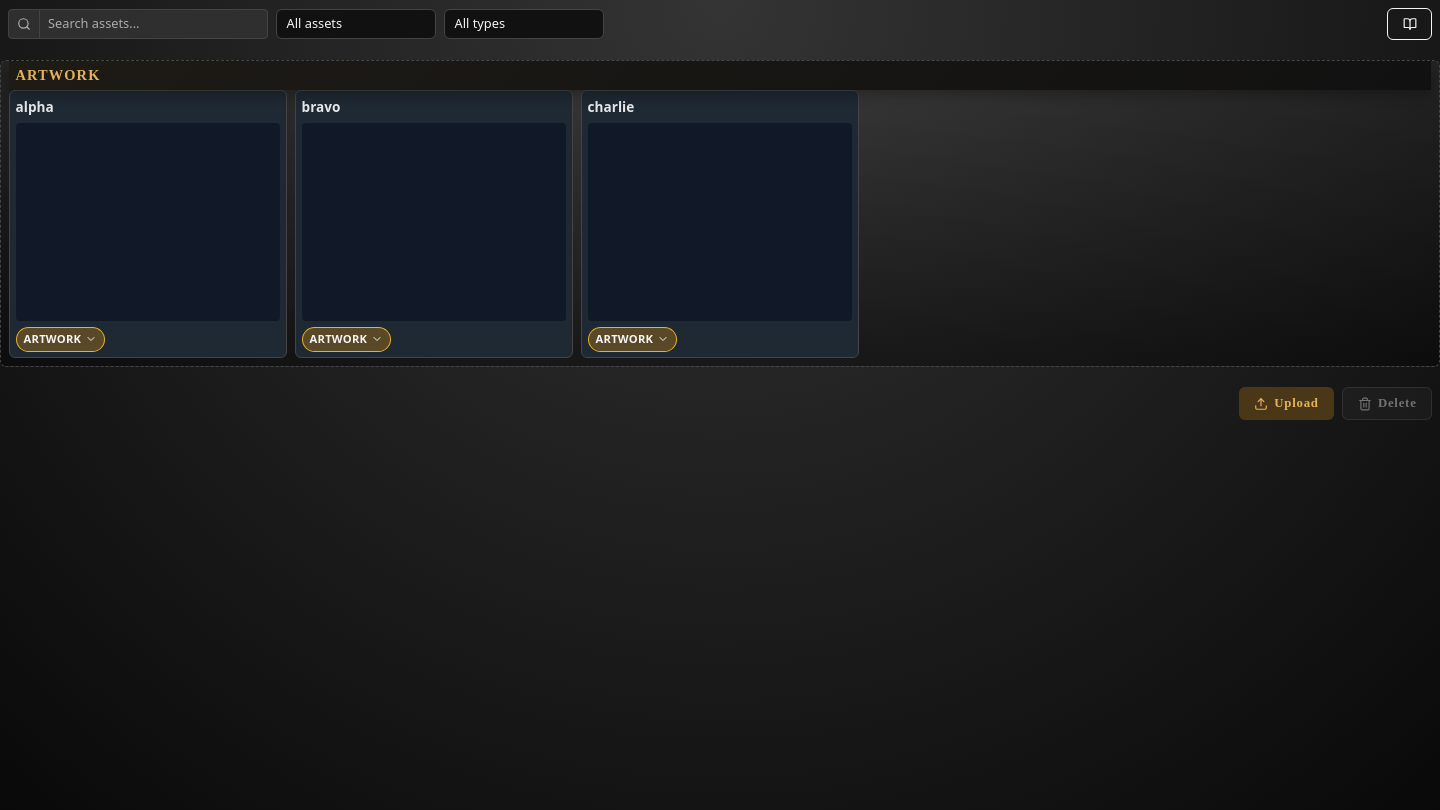
AssetsPanelContent recent uploads (UI) › treats shift click without an anchor like a plain click in manage mode
Click the button "charlie Artwork" at (720, 224), box [581, 90, 859, 358]
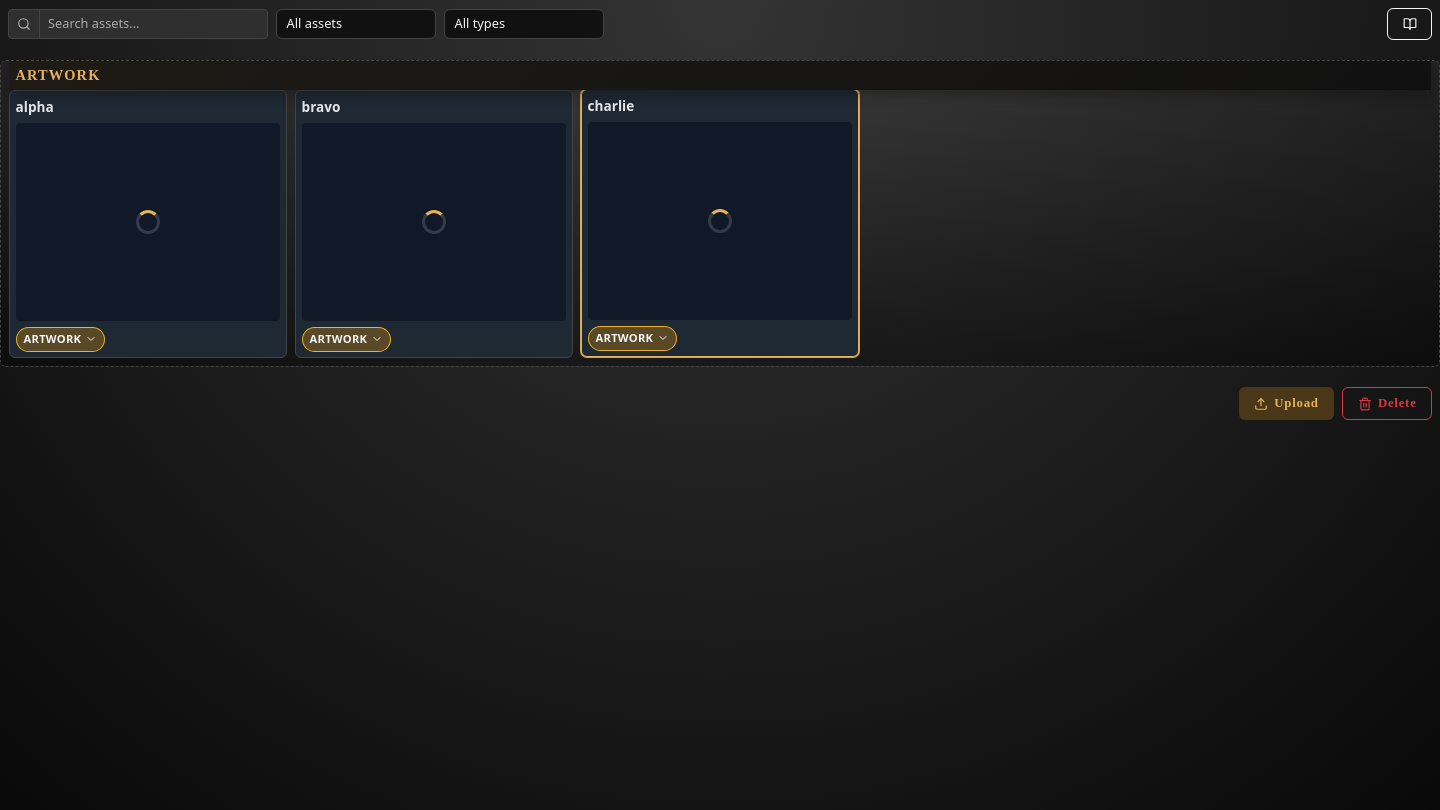
Check: the button "Delete" is enabled, box [1342, 387, 1432, 420]
